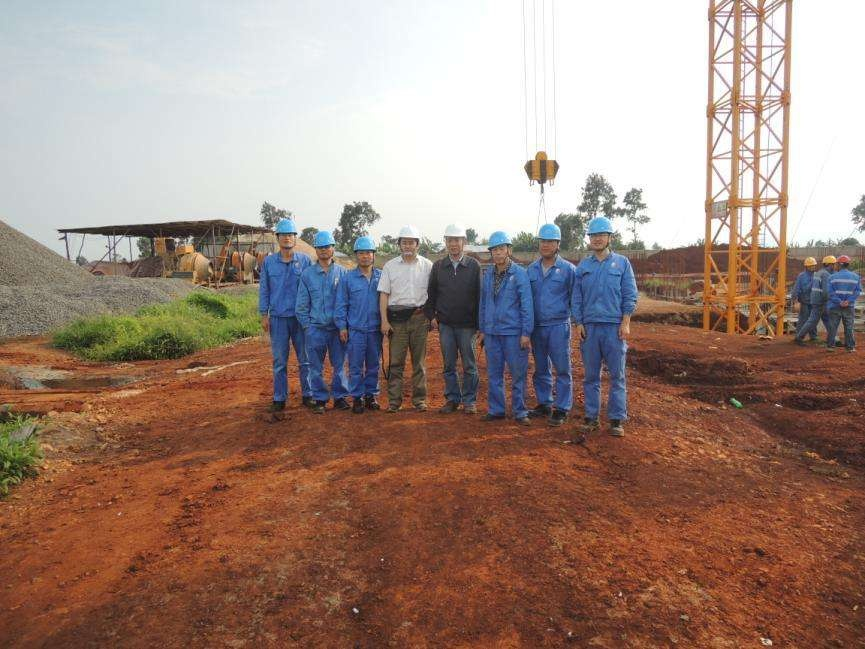blue: (586, 216, 614, 252), (272, 217, 299, 254), (485, 229, 513, 264), (536, 222, 561, 260), (311, 228, 336, 264), (351, 235, 376, 271)
white: (395, 222, 422, 256), (440, 221, 465, 255)
